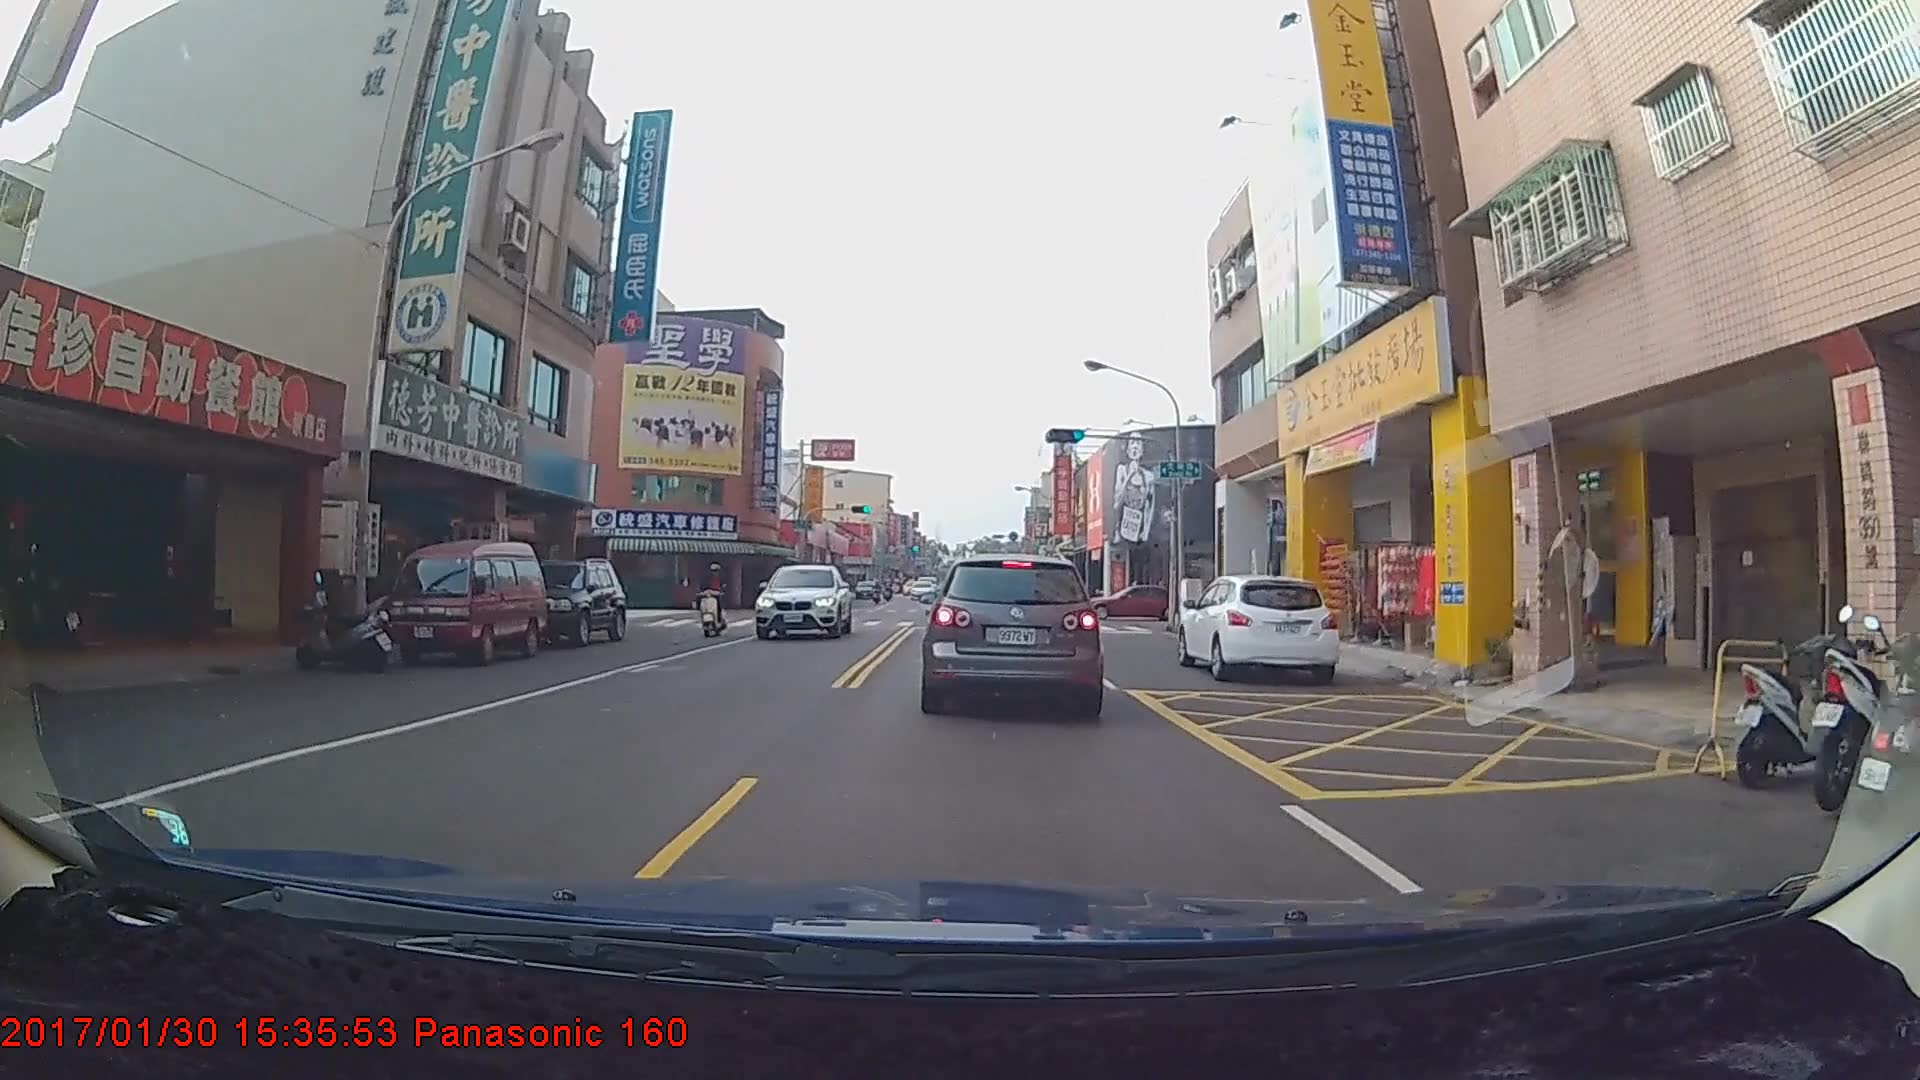rider: (692, 558, 736, 636)
vehicle: (917, 552, 1105, 713), (382, 534, 546, 663), (1180, 572, 1339, 683), (507, 555, 626, 644), (763, 556, 855, 638), (1080, 585, 1189, 619), (910, 577, 936, 597)
